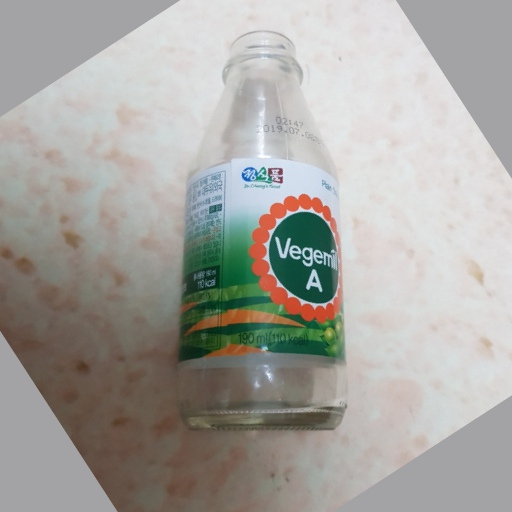Glass_4: (162, 27, 351, 442)
